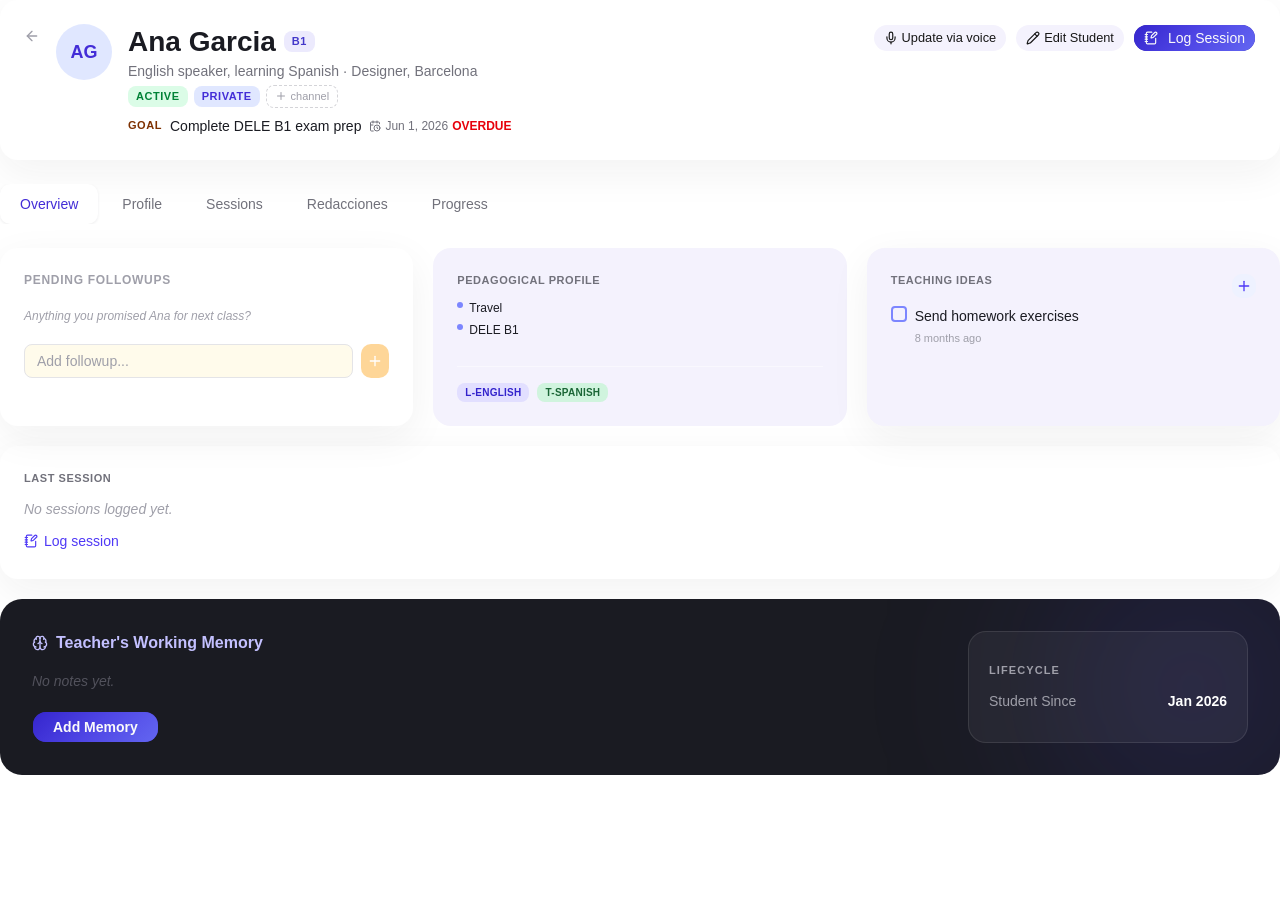
Test: StudentDetail › Cancel dismisses the voice panel
This screenshot has width=1280, height=900.
expect the heading "Ana Garcia" is shown: met, box [128, 24, 276, 59]
Click the button with test id "voice-update-button". click: {"x": 940, "y": 38}
box: [873, 24, 1007, 52]
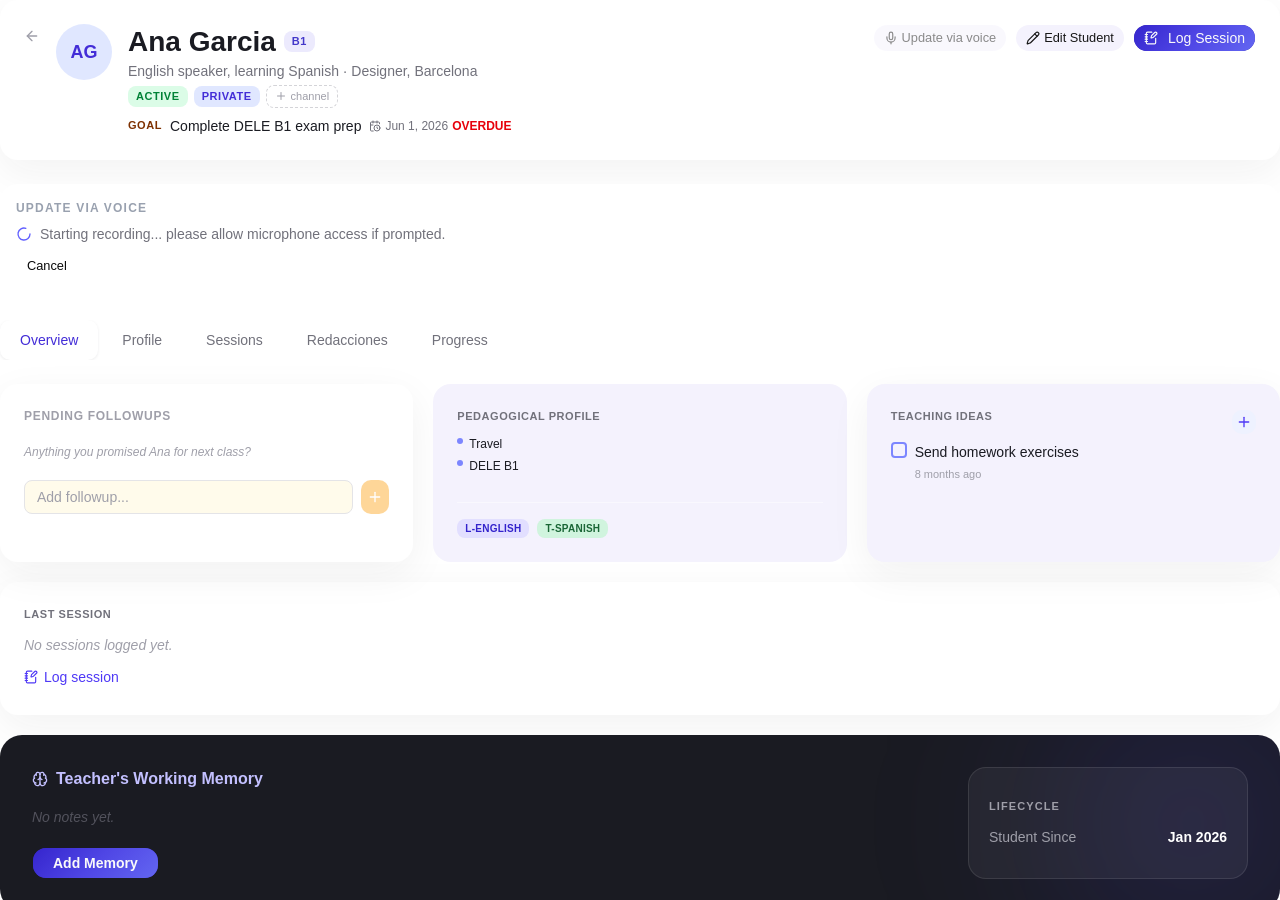
expect the element with test id "voice-recorder-panel" is shown: met, box [0, 184, 1279, 296]
Click the button "Cancel". click: {"x": 47, "y": 266}
box: [16, 252, 78, 280]
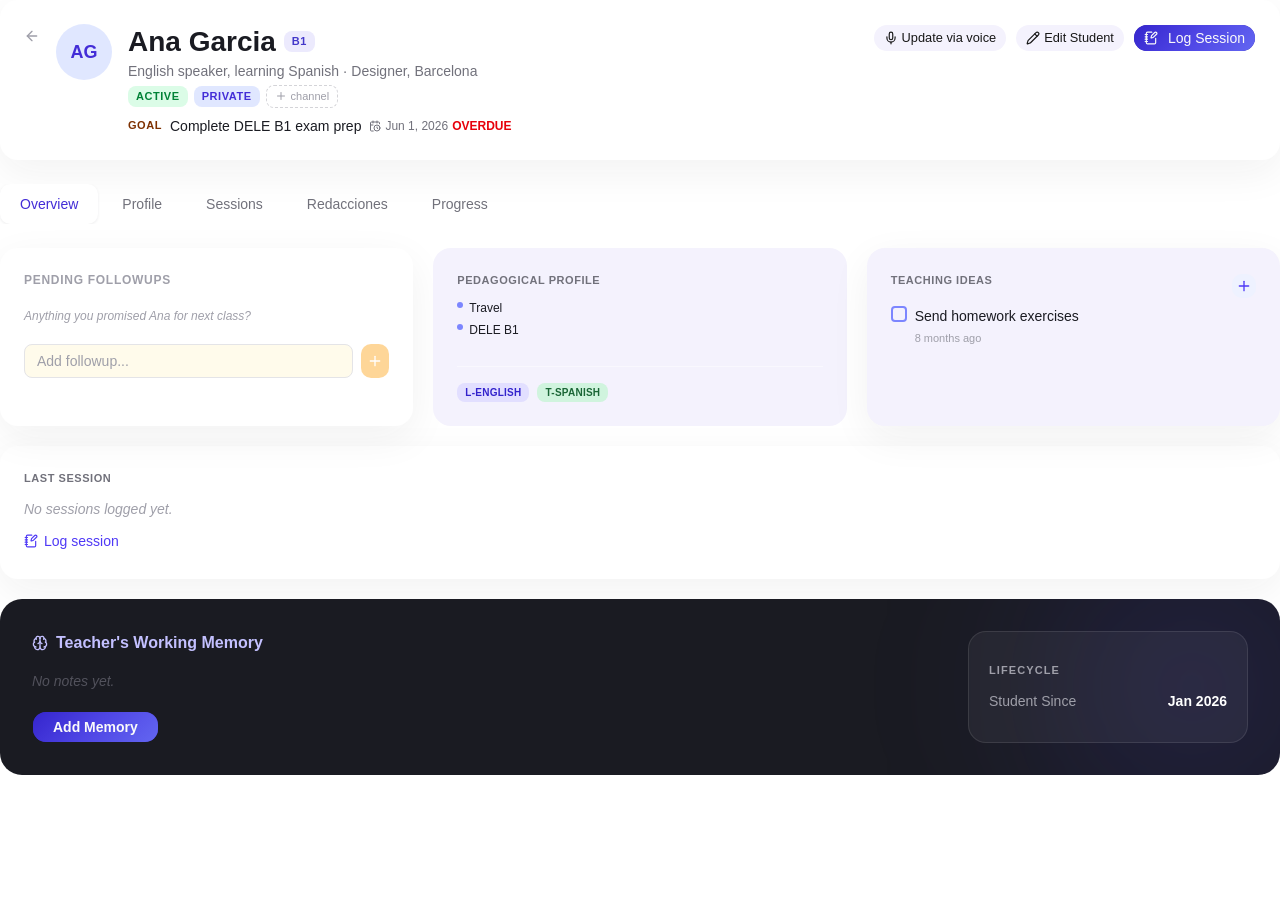
expect the element with test id "voice-recorder-panel" is gone: met
